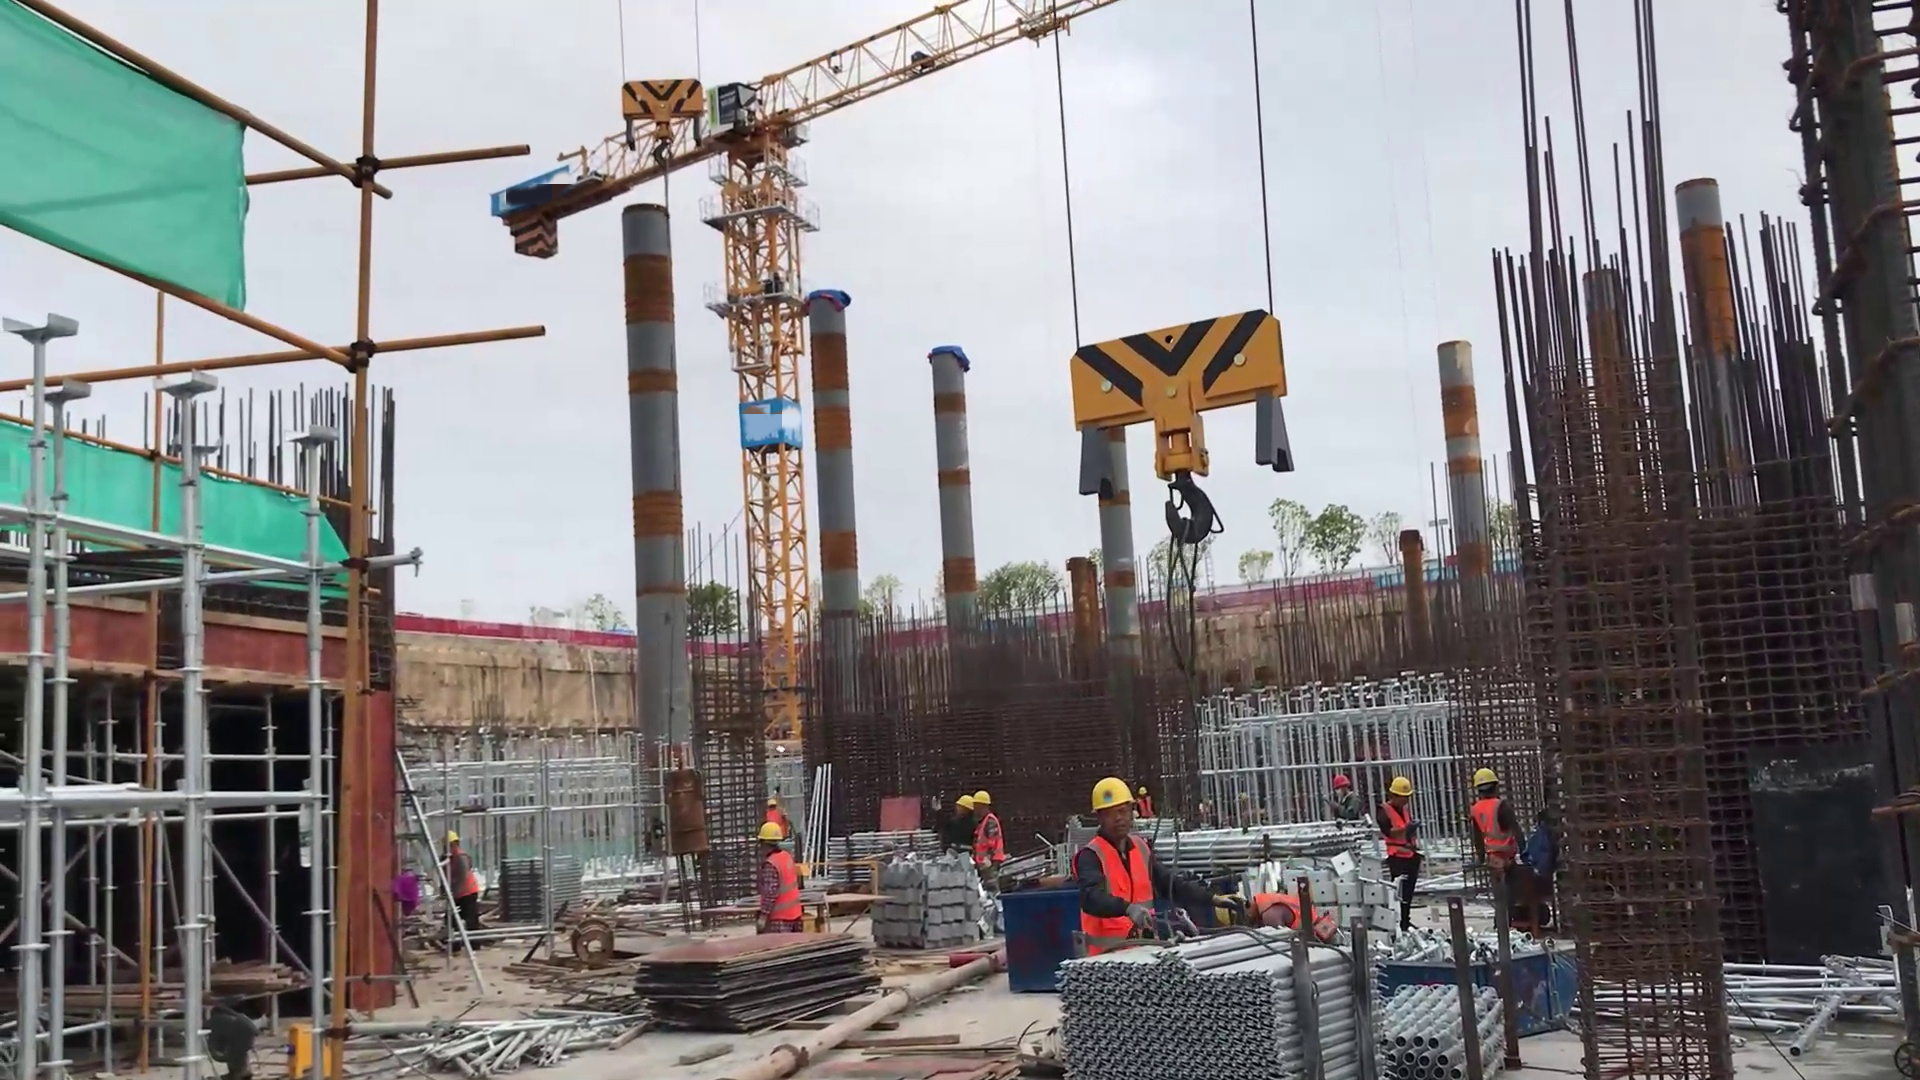board: (620, 928, 911, 1023)
helmet: (1089, 767, 1147, 814), (1462, 761, 1509, 800), (756, 812, 789, 853), (1385, 766, 1411, 800)
hook: (1055, 301, 1331, 572), (621, 73, 711, 171)
hopper: (1354, 915, 1596, 1058)
scaffold: (1062, 891, 1374, 1080), (1352, 849, 1507, 1080)
